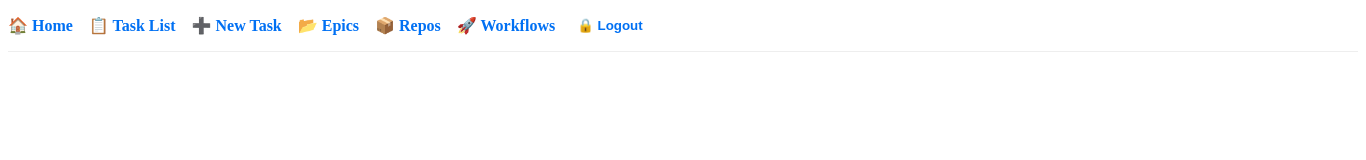
Test: shows logout when authenticated and clears session on click
The width and height of the screenshot is (1366, 160).
Click the button "🔒 Logout".
click(610, 26)  # box [571,16,649,35]
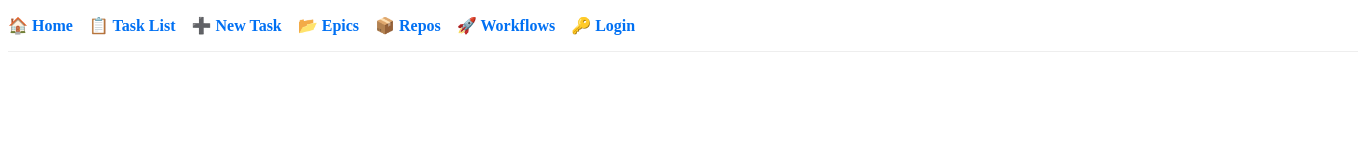
Expected: the link "🔑 Login" is shown, [571,16,635,35]
